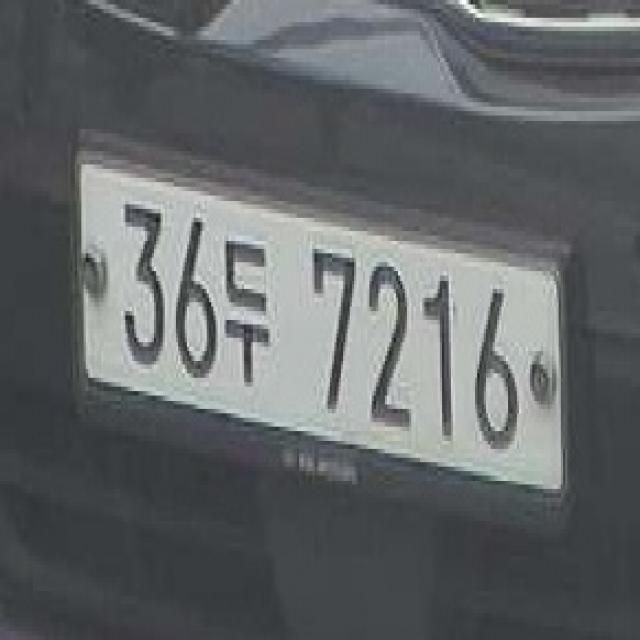1: (422, 271, 456, 436)
2: (365, 254, 414, 436)
3: (119, 195, 169, 369)
6: (471, 284, 516, 453), (173, 209, 216, 382)
7: (308, 249, 356, 409)
du: (222, 226, 268, 386)
license_plate: (73, 134, 572, 502)
